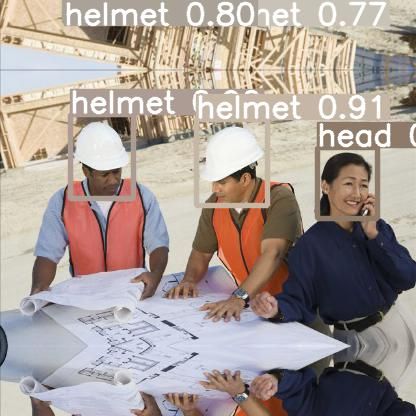head: (317, 147, 377, 218)
helmet: (196, 119, 267, 205), (70, 114, 133, 198), (64, 0, 130, 22), (196, 0, 268, 19)
